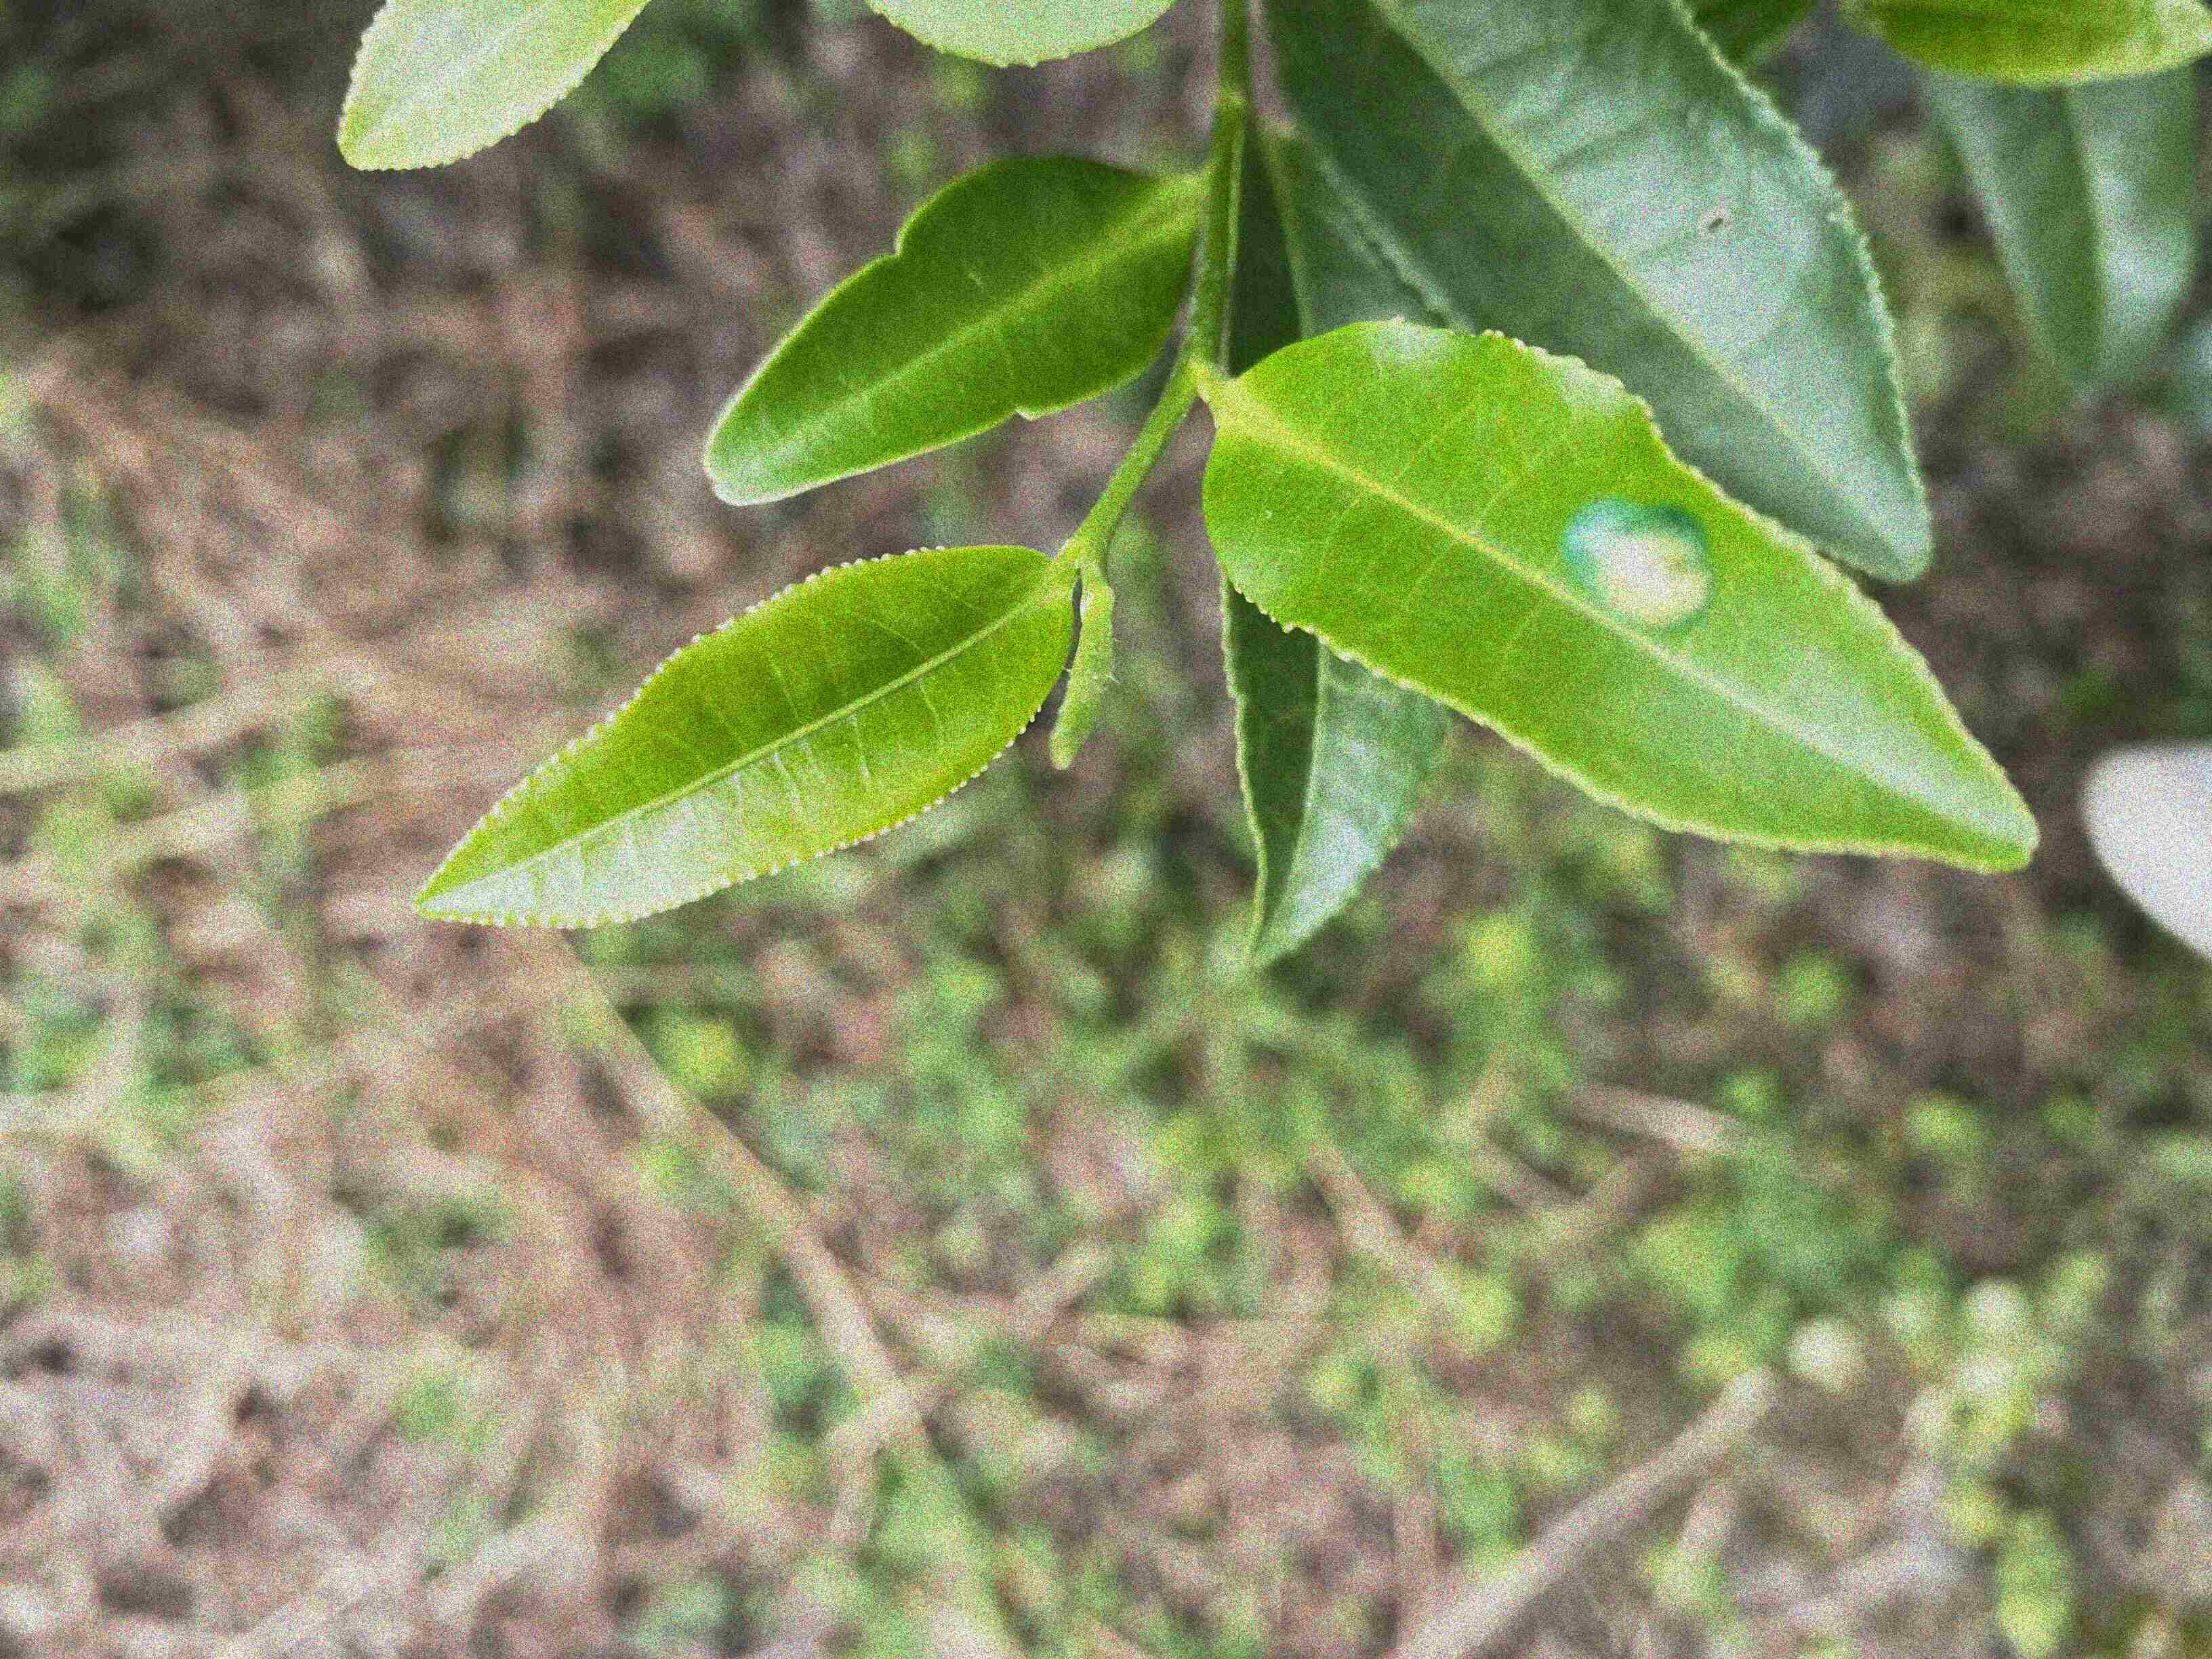chabing_low: (1200, 317, 2045, 875)
healthy: (409, 542, 1076, 931)
